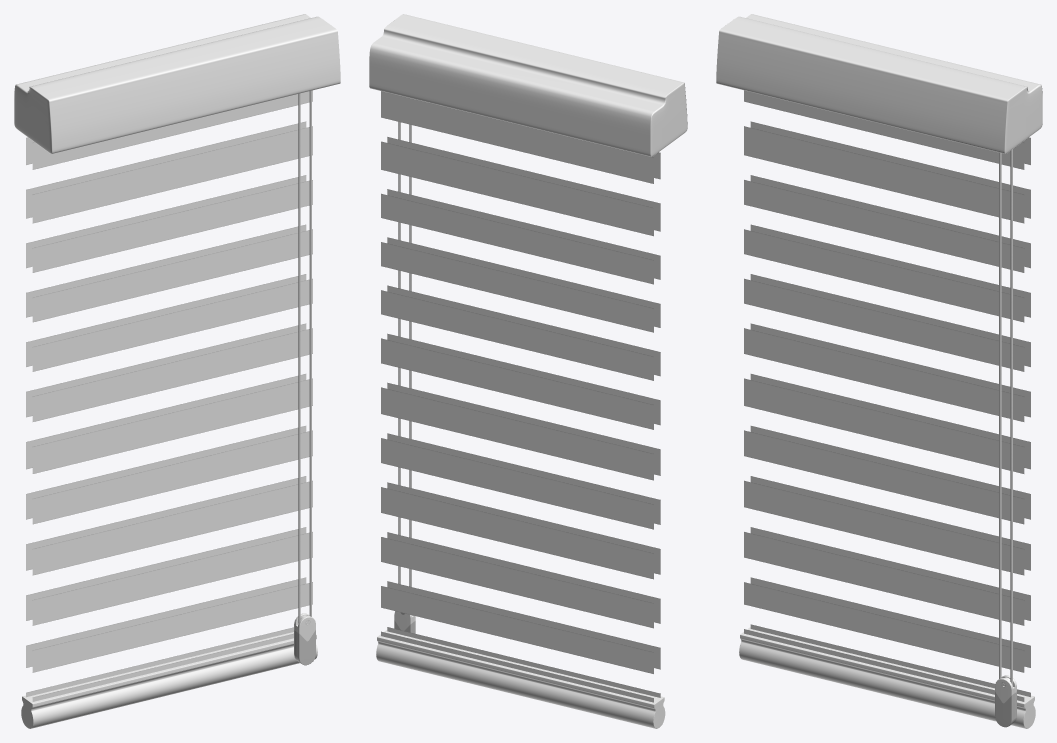
File: curtain_02_08.001.fbx
3 renders of one model, left to right at view 1: azimuth 30°, elevation 25°; view 2: azimuth 150°, elevation 25°; view 3: azimuth 330°, elevation 25°, orthographic. The views are drawn at different scales.
Visible parts, largest first — view 1: curtain_02_08.001; view 2: curtain_02_08.001; view 3: curtain_02_08.001.
Boxes of the visible parts, bbox=[...] form: curtain_02_08.001: bbox=[14, 14, 340, 728]; curtain_02_08.001: bbox=[369, 14, 687, 728]; curtain_02_08.001: bbox=[716, 14, 1042, 728].
Size of the model in its own units: 51.11 by 109 by 11.73.
1 material, 1 textured.
